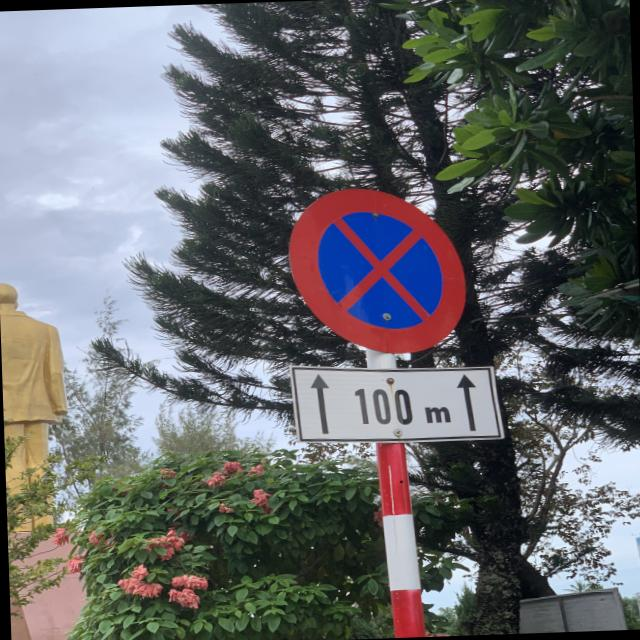Cam_Dung_Va_Dau_Xe: (280, 182, 471, 360)
